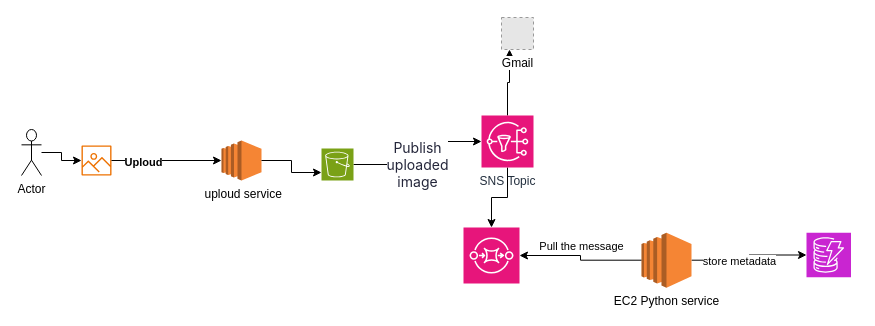
Some shapes in this 875 by 326 pixel diagram are drawn without their labels. Grey dashed boxes stand in for pictures. The shapes that lost their labels are listed below. From the top down, each one's centre as x and y in pixels, then its label:
the point at 337,164: S3
the point at 491,255: SQS
the point at 828,254: Dynamodb
